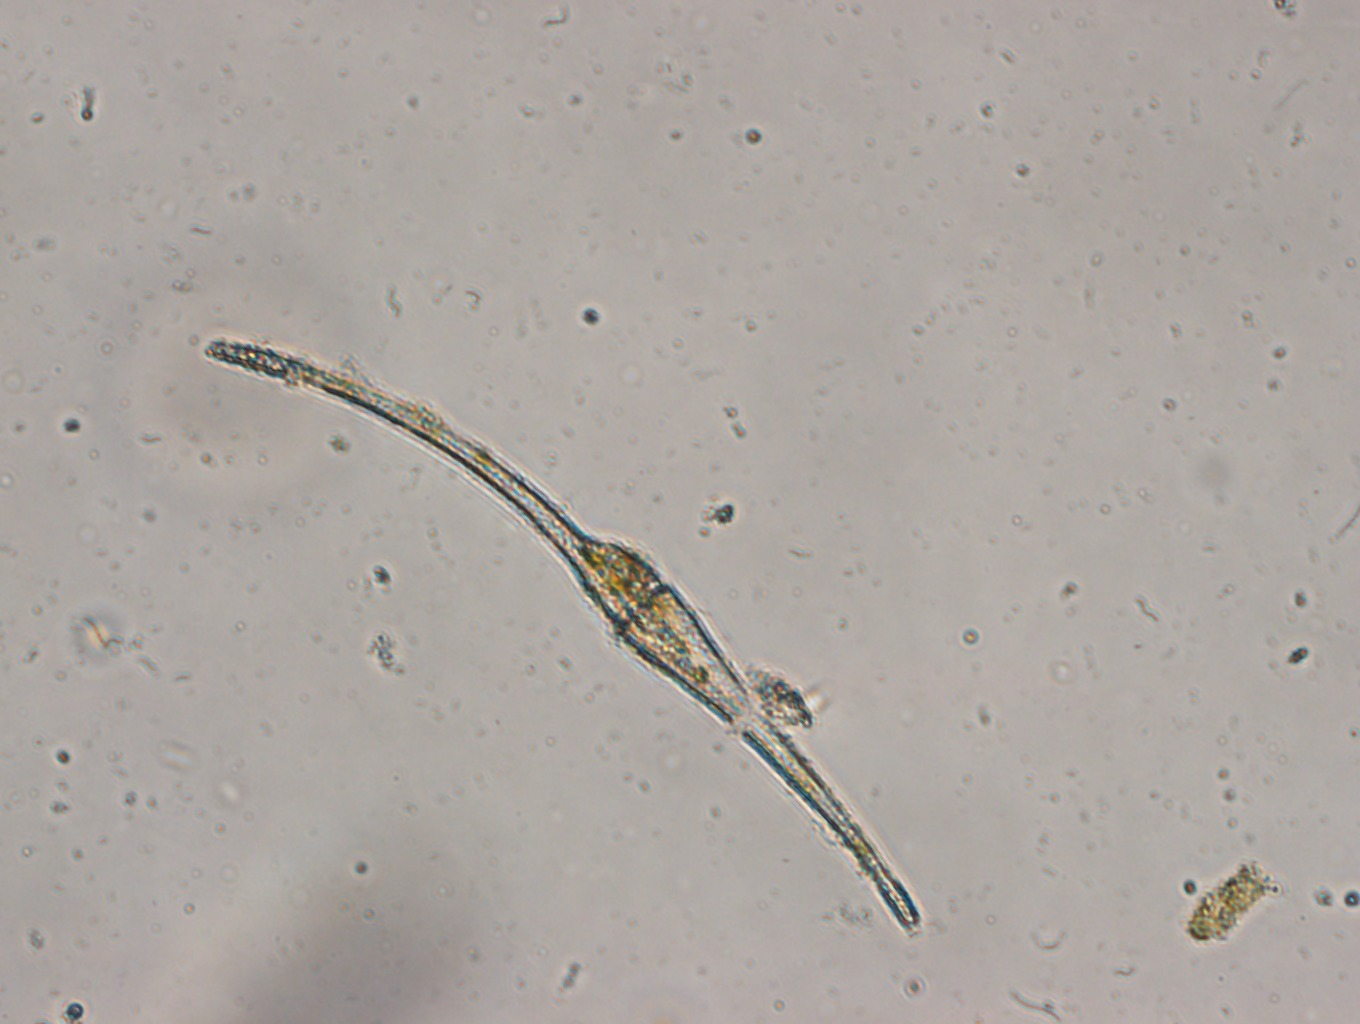ceratium fusus: (194, 331, 928, 940)
